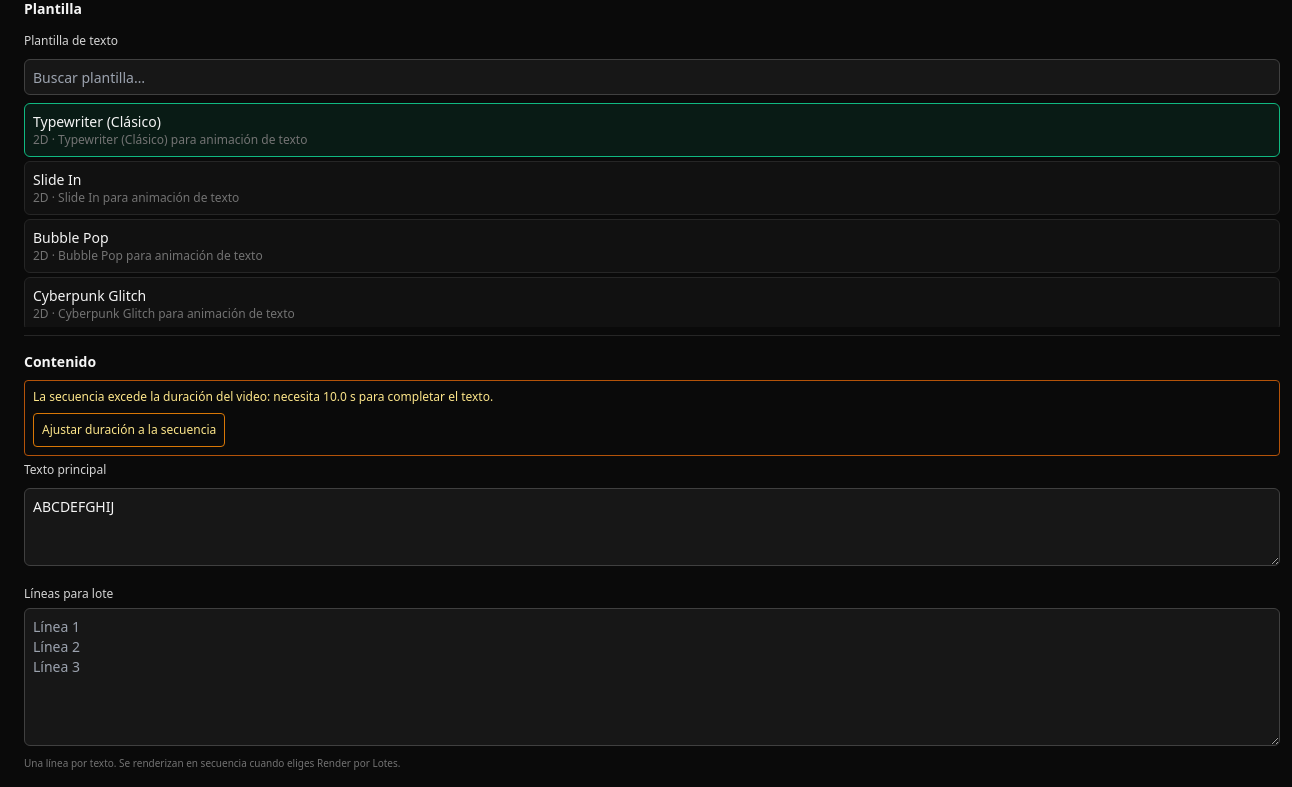
Test: advierte Typewriter truncado y aumenta duración únicamente al pedirlo
Expected: the text "secuencia excede" is shown, [33, 388, 323, 405]
Click the button "Ajustar duración a la secuencia" at [129, 430], box [33, 413, 225, 447]
(page scrolled)
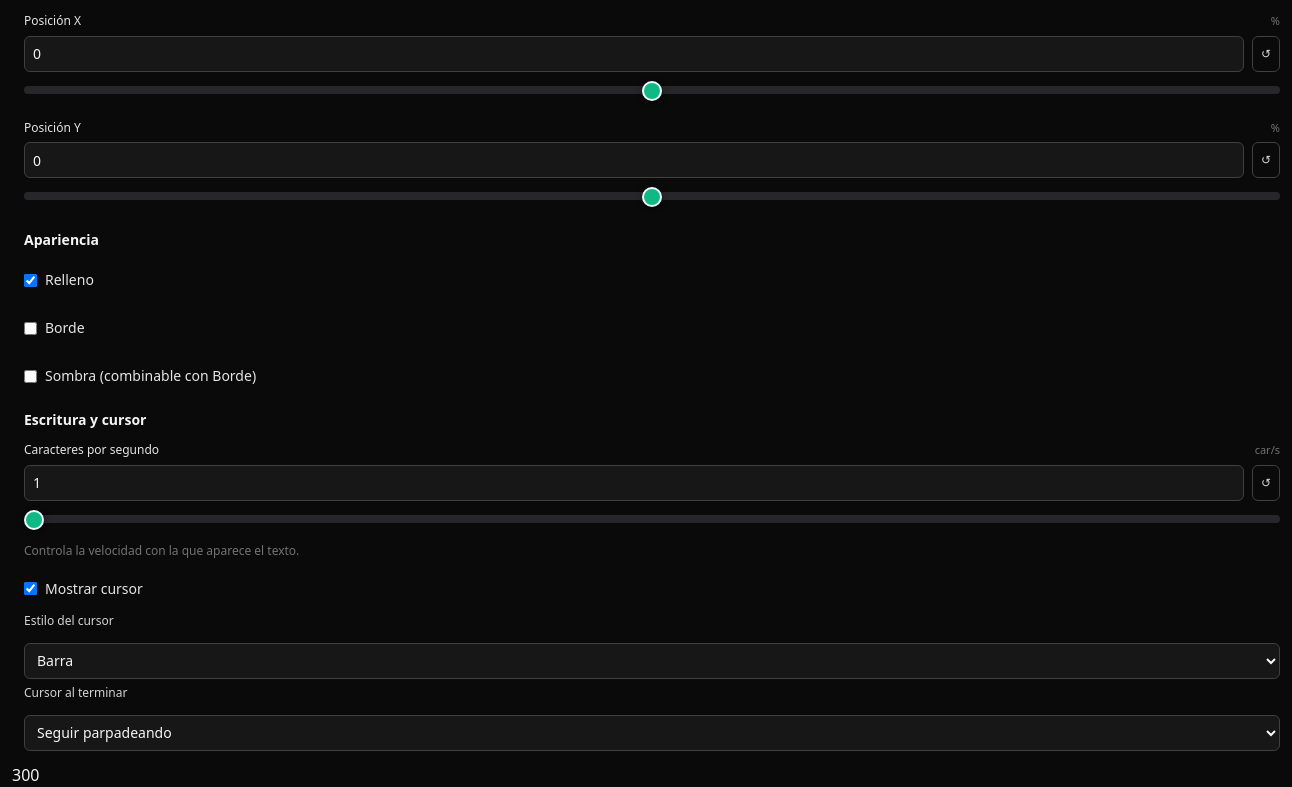
Result: the text with test id "frames" reads "300" at [12, 764, 40, 786]
